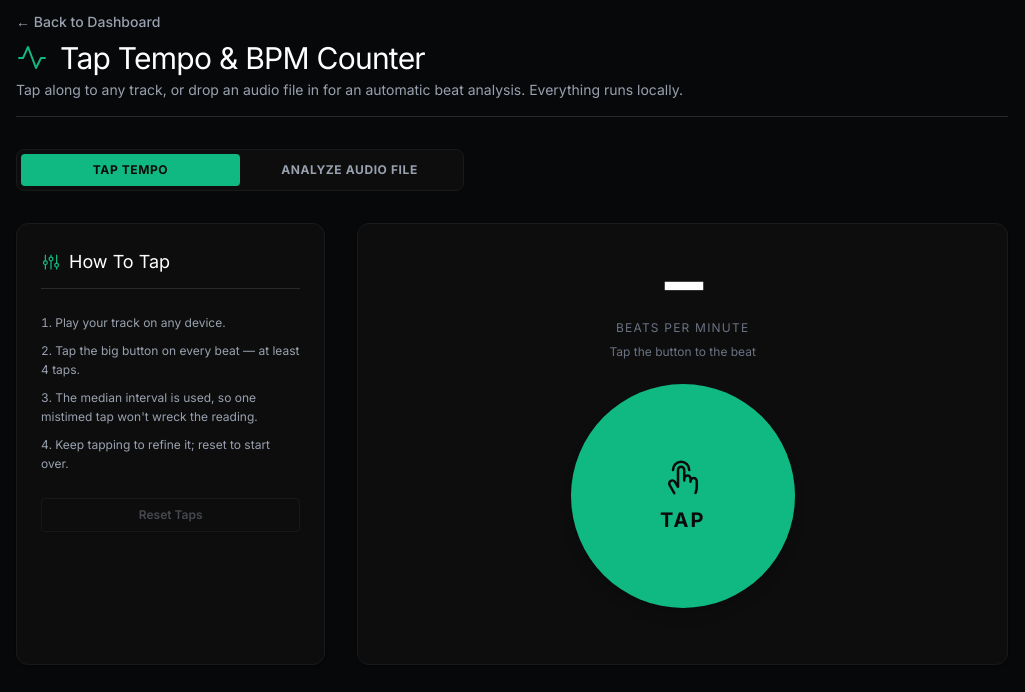
Test case: bpm-finder › tap tempo UI: five taps at 500 ms intervals read 120 BPM
Click the button with aria-label "Tap to the beat" at point(683, 496), box [571,384,795,608]
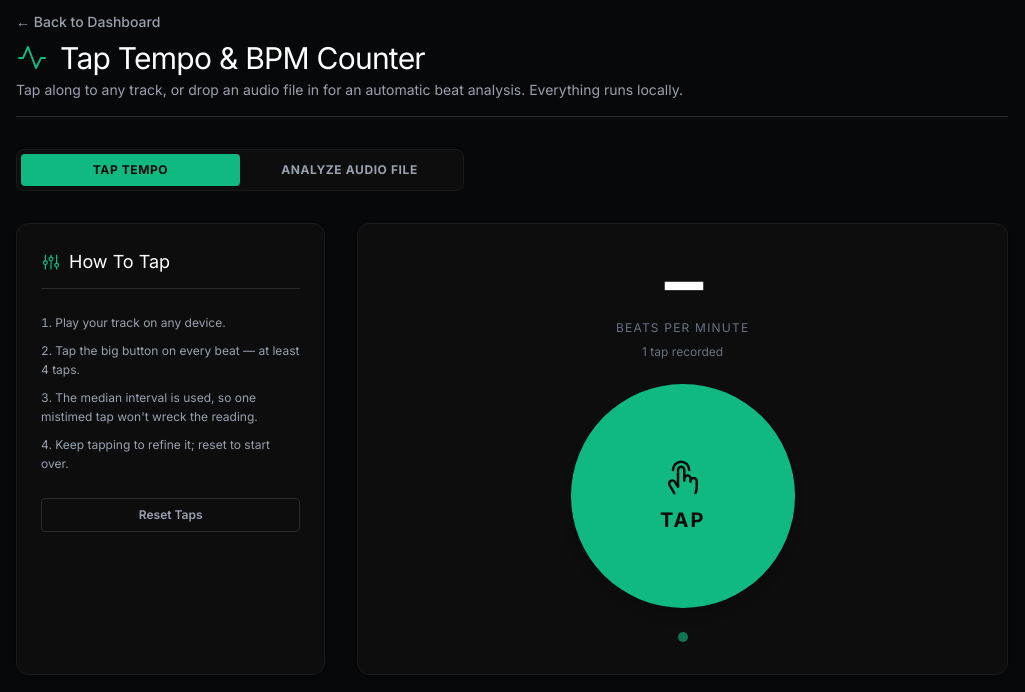
Click the button with aria-label "Tap to the beat" at point(683, 496), box [571,384,795,608]
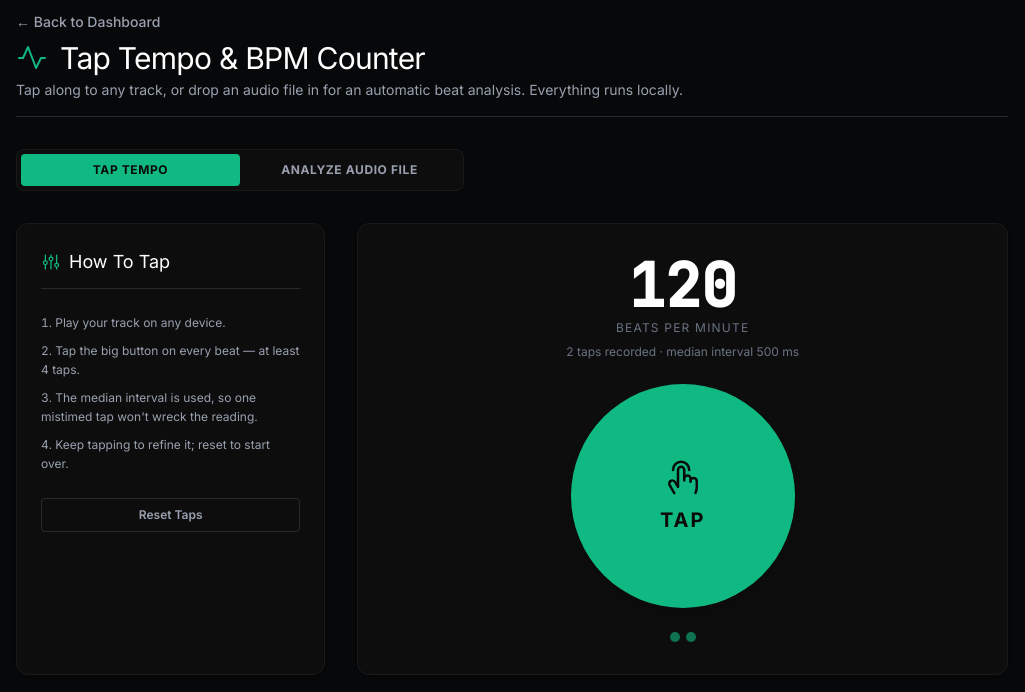
Click the button with aria-label "Tap to the beat" at point(683, 496), box [571,384,795,608]
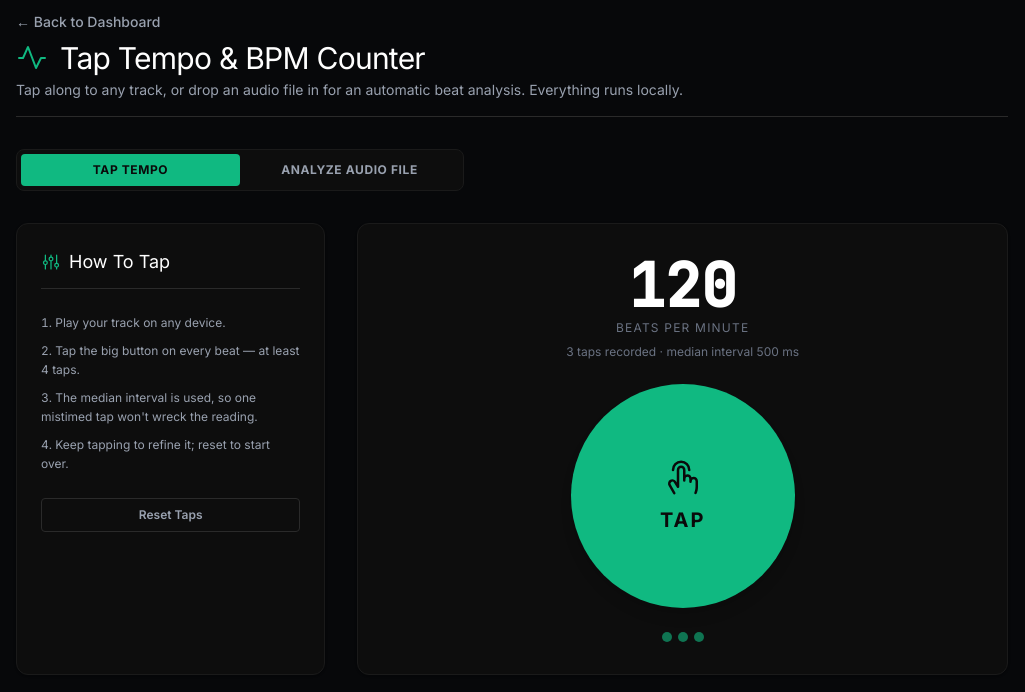
Click the button with aria-label "Tap to the beat" at point(683, 496), box [571,384,795,608]
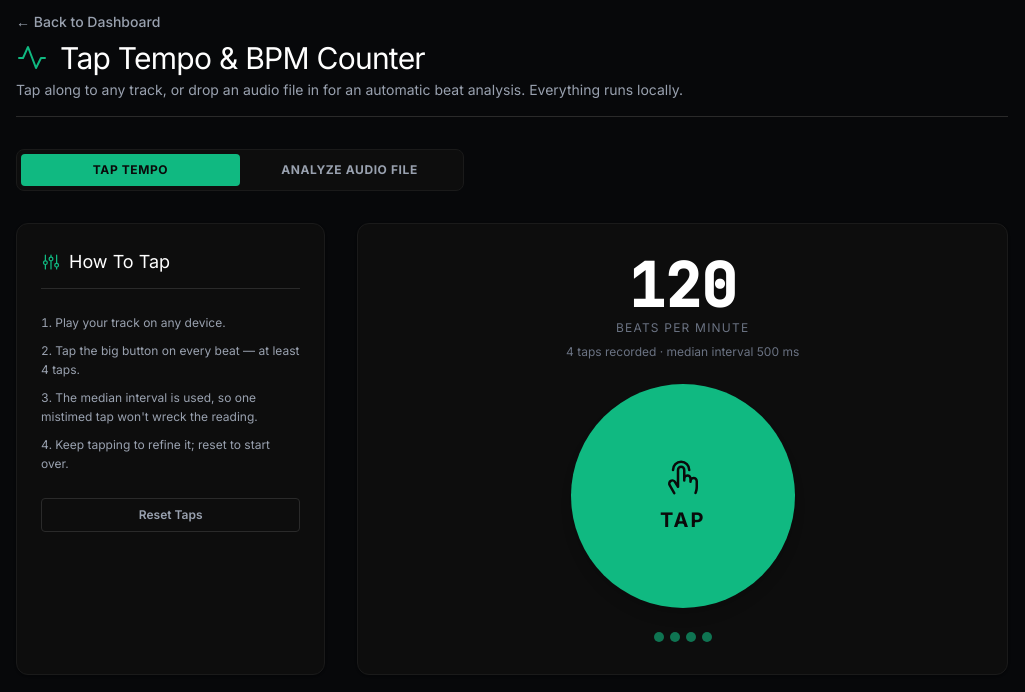
Click the button with aria-label "Tap to the beat" at point(683, 496), box [571,384,795,608]
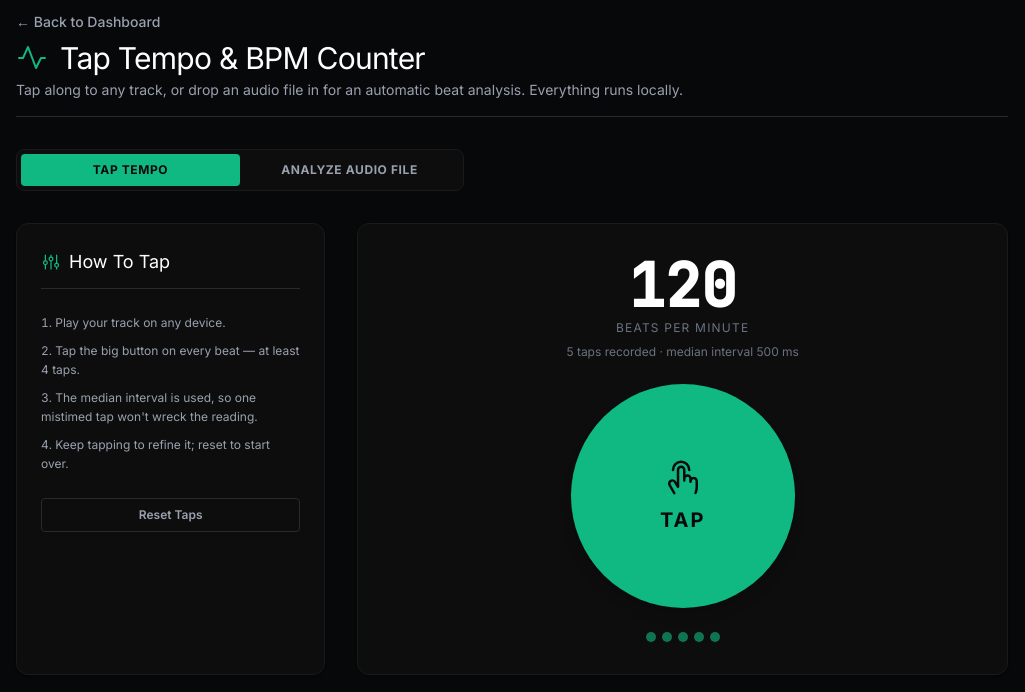
Check: the text with test id "tap-bpm-value" reads "120", box [629,246,737,325]
Check: the text "5 taps recorded · median interval 500 ms" is shown, box [566,344,799,360]
